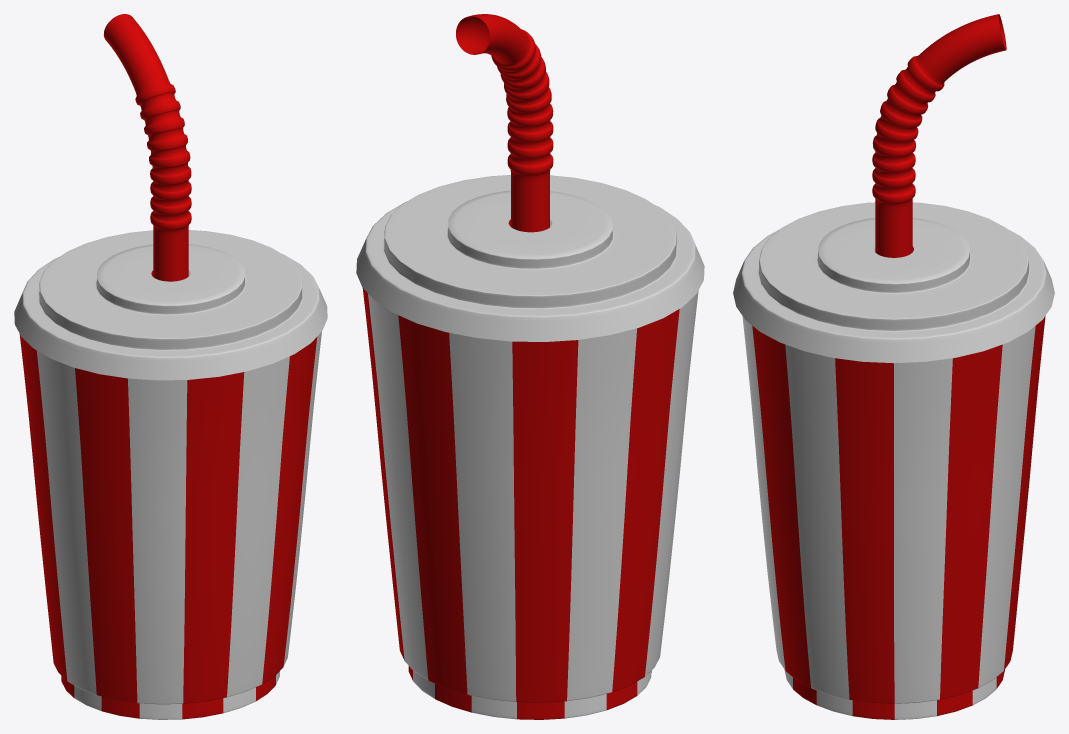
File: Soda_Cup_Combined.fbx
The picture shows the model from 3 angles, left to right: view 1: azimuth 30°, elevation 25°; view 2: azimuth 150°, elevation 25°; view 3: azimuth 270°, elevation 25°; orthographic projection. The views are drawn at different scales.
Visible parts, largest first — view 1: Soda_Cup_Combined; view 2: Soda_Cup_Combined; view 3: Soda_Cup_Combined.
Boxes of the visible parts, <box> form: Soda_Cup_Combined: <box>14,14,327,719</box>; Soda_Cup_Combined: <box>356,14,704,719</box>; Soda_Cup_Combined: <box>733,14,1054,719</box>.
Bounding box in the file's own units: 14.48 × 31.48 × 14.01.
